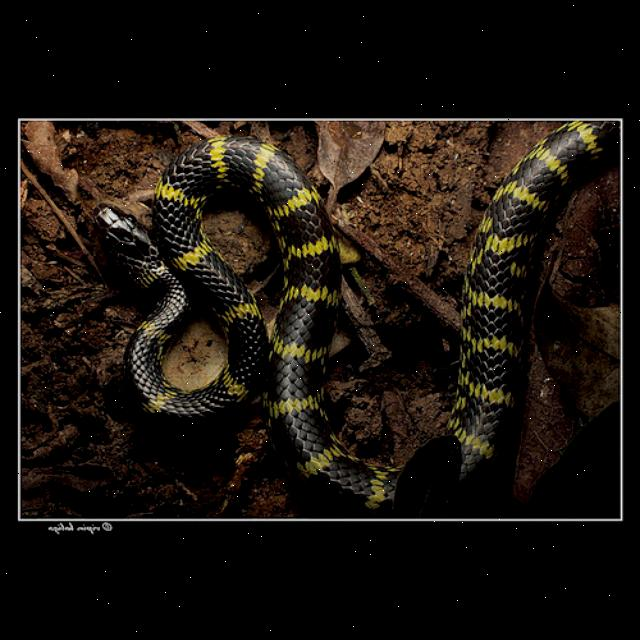snake: (93, 118, 622, 512)
